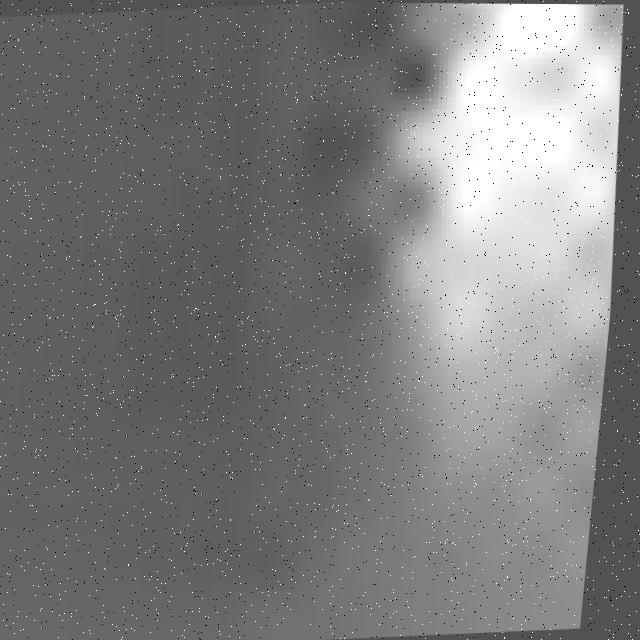person: (346, 3, 640, 504)
